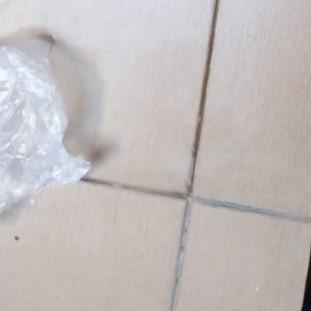Plastik: (0, 35, 90, 220)
